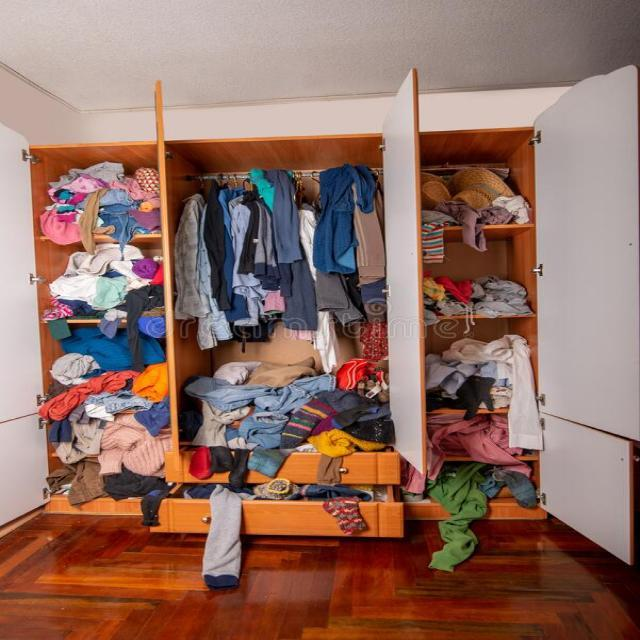clothes: (185, 198, 390, 442)
